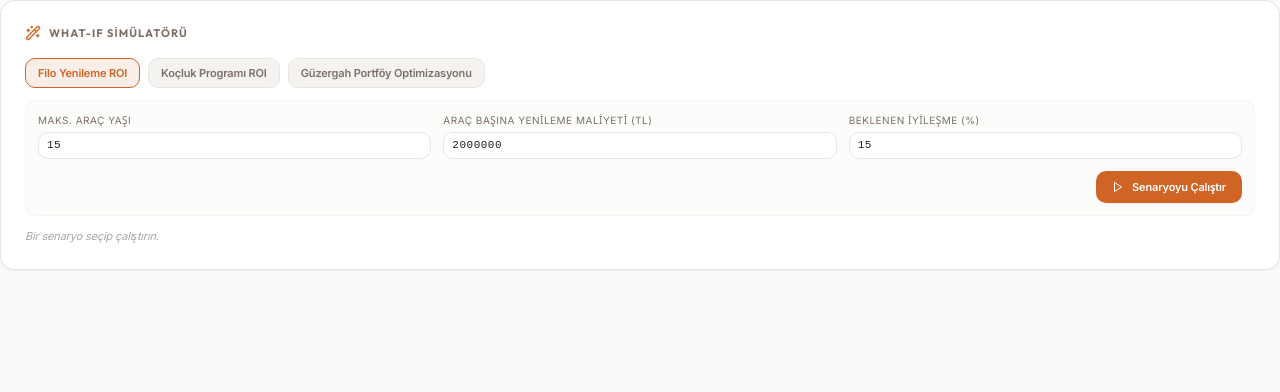
Test: WhatIfPanel › default scenario fleet_renewal — buton tıklanır + sonuç görünür
Click the button "Senaryoyu Çalıştır" at (1169, 187), box [1096,170,1242,203]
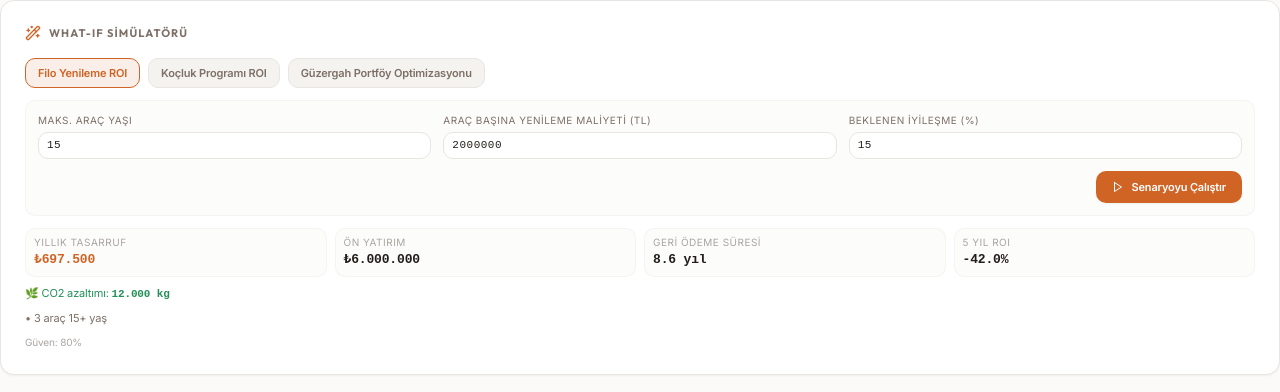
Expected: the text "₺697.500" is shown, [34,252,95,267]
Expected: the text "8.6 yıl" is shown, [653,252,706,267]
Expected: the text "12.000 kg" is shown, [112,288,170,300]
